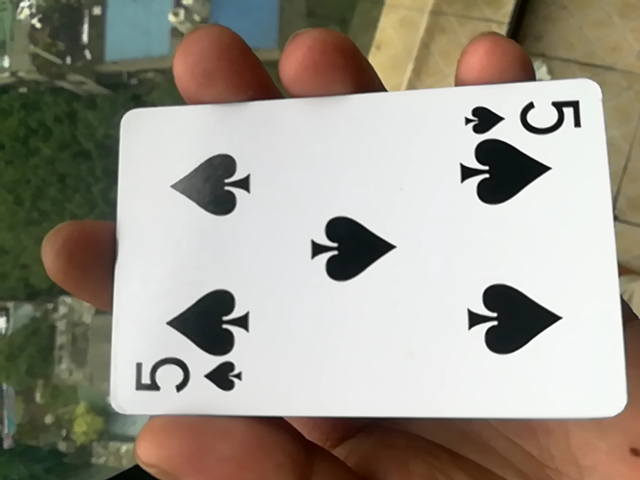ht 5: (89, 91, 631, 432)
